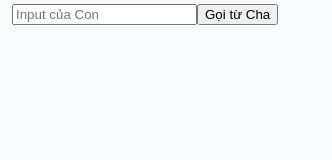
Test case: 15 React Hooks + TypeScript Concise Demos › 12. useImperativeHandle: cha gọi focusAndFill trên con qua ref
This screenshot has width=332, height=160.
Click the button "Gọi từ Cha".
click(238, 14)  # box [197, 4, 278, 25]
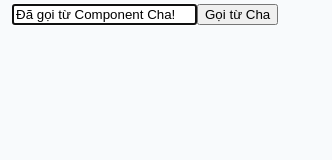
Check: the field with placeholder "Input của Con" holds "Đã gọi từ Component Cha!", box [12, 4, 197, 25]
